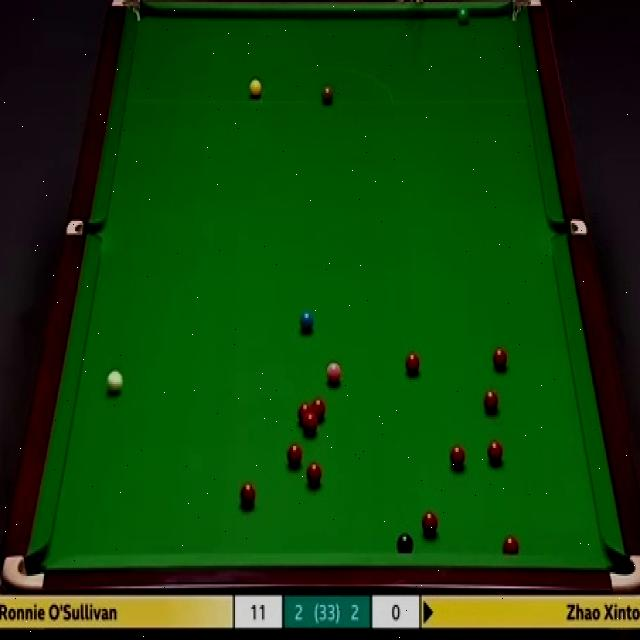black-ball: (394, 532, 412, 556)
blue-ball: (298, 310, 314, 335)
brown-ball: (319, 83, 334, 106)
green-ball: (456, 6, 472, 25)
pink-ball: (326, 358, 342, 385)
red-ball: (405, 350, 422, 379), (420, 511, 438, 538), (239, 482, 256, 510), (305, 462, 322, 490), (483, 388, 500, 415), (288, 441, 305, 468), (487, 439, 503, 466), (492, 345, 508, 372), (449, 445, 465, 470), (312, 398, 326, 424), (503, 534, 519, 555), (304, 415, 317, 436), (298, 402, 311, 423)
white-ball: (105, 367, 122, 396)
yellow-ball: (247, 78, 262, 98)
